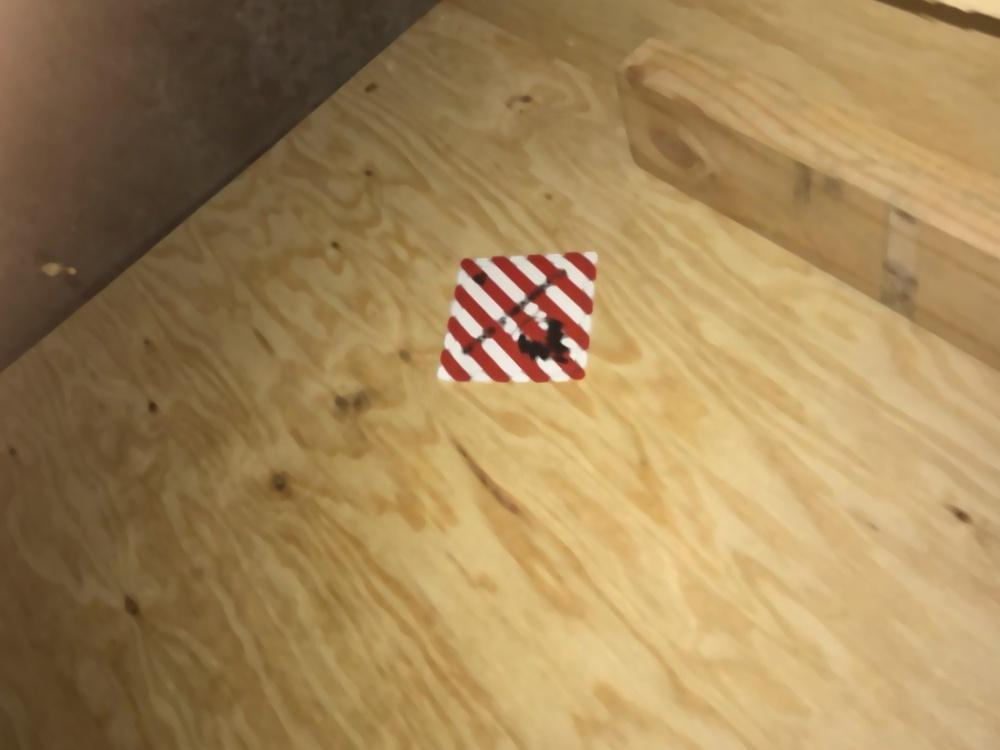flammable-solid: (434, 248, 600, 382)
